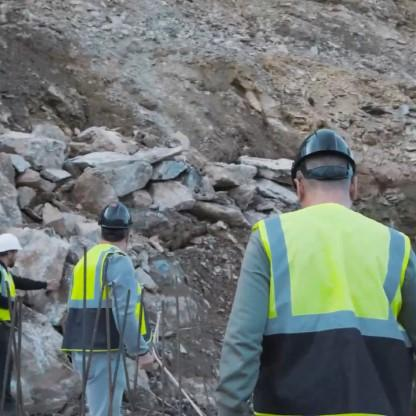helmet: (286, 125, 377, 222), (90, 203, 144, 259), (0, 231, 27, 275)
